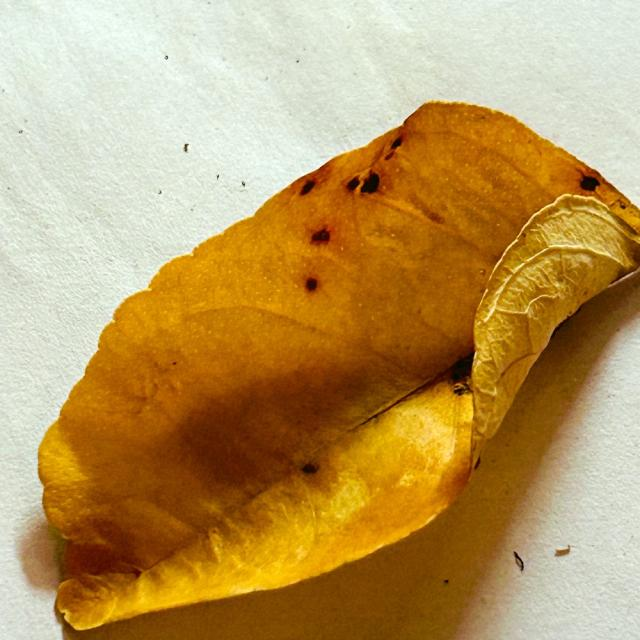DryLeaf_Lemon: (38, 102, 639, 630)
